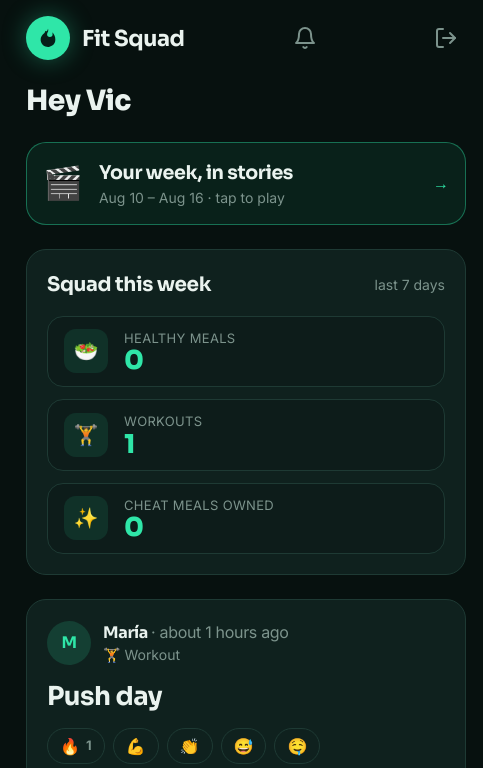
Test: reactions in the feed › keeps a new reaction after the card hands it up
Click the button named "🔥 reaction" at (76, 746), box [47, 728, 105, 764]
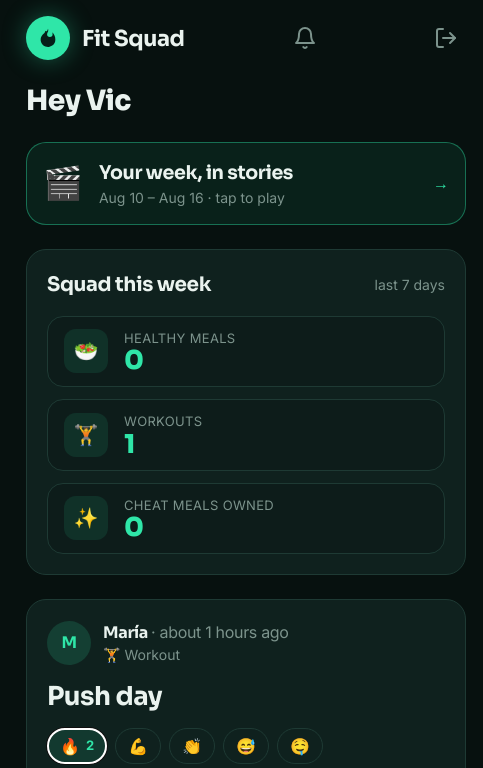
expect the button named "🔥 reaction" shows "2": met, box [47, 728, 107, 764]
